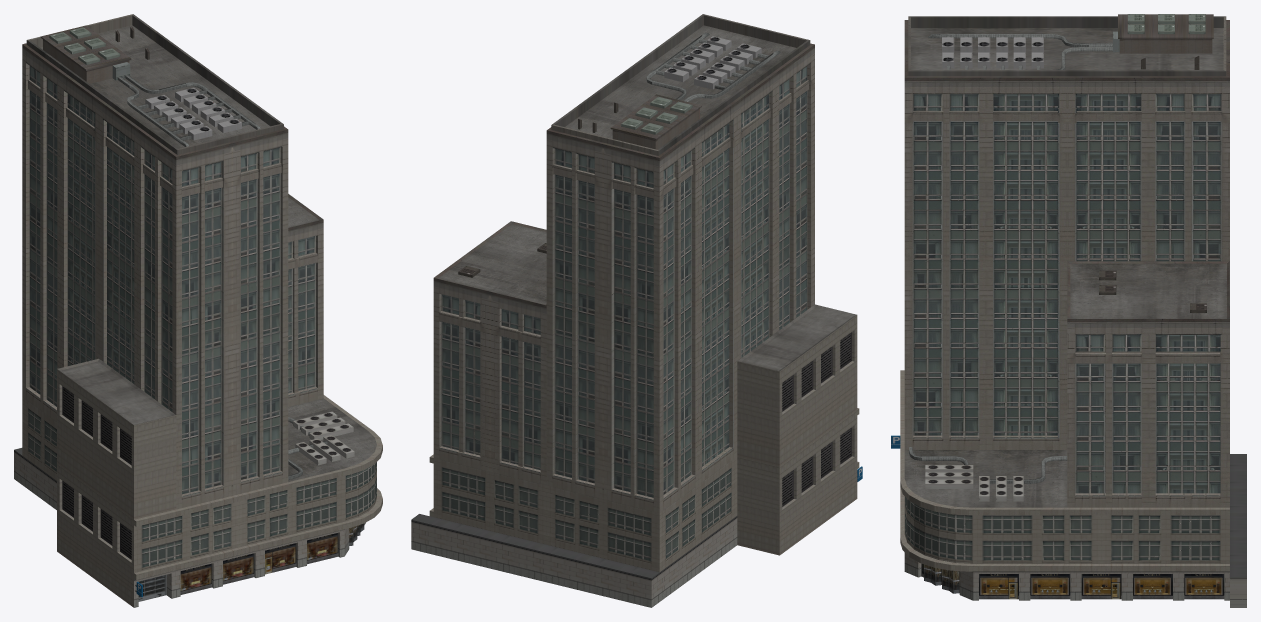
The model's file is AIT01W2W7.FBX.
The picture shows the model from 3 angles, left to right: view 1: azimuth 30°, elevation 25°; view 2: azimuth 150°, elevation 25°; view 3: azimuth 270°, elevation 25°; orthographic projection. The views are drawn at different scales.
Visible parts, largest first — view 1: AIT01W2W7; view 2: AIT01W2W7; view 3: AIT01W2W7.
Boxes of the visible parts, <box> form: AIT01W2W7: <box>14,14,382,607</box>; AIT01W2W7: <box>411,14,862,607</box>; AIT01W2W7: <box>891,14,1246,607</box>.
Bounding box in the file's own units: 3200 × 4945 × 3329.
